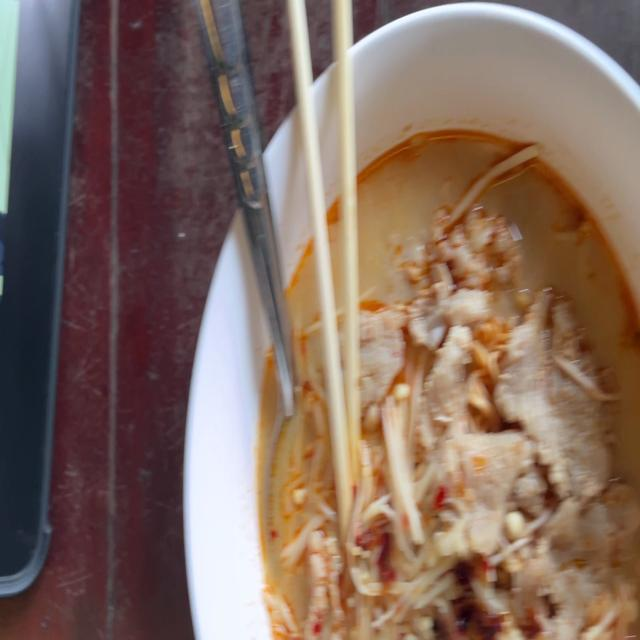noodle: (241, 109, 640, 640)
